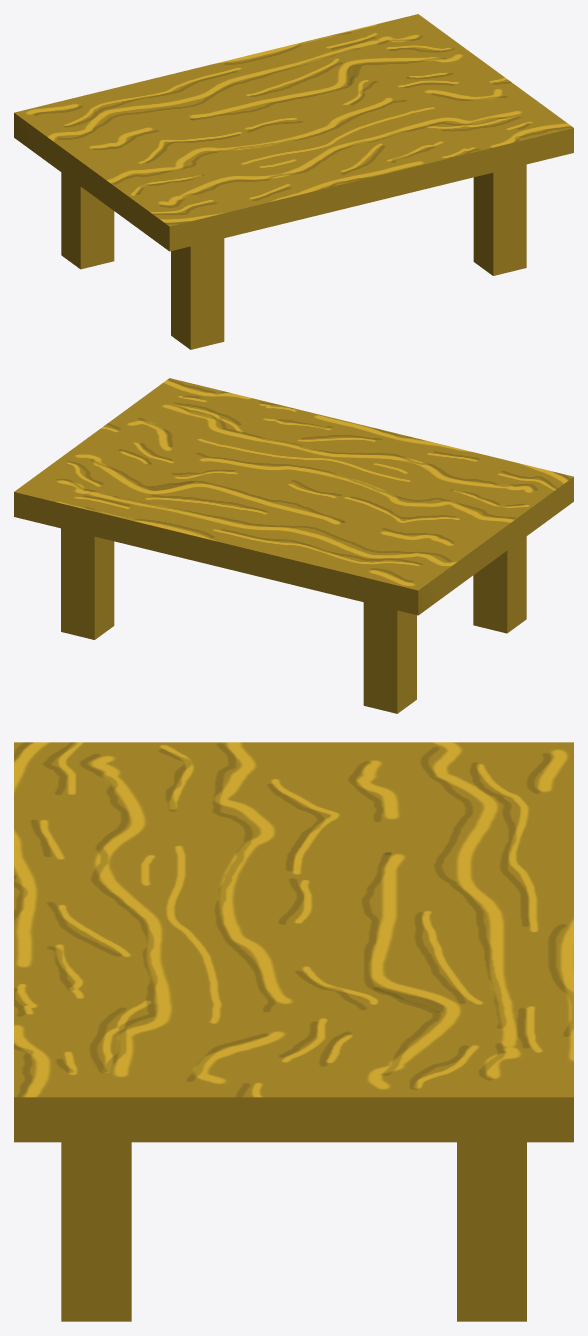
The model's file is CHUJ.fbx.
3 renders of one model, top to bottom at view 1: azimuth 30°, elevation 25°; view 2: azimuth 150°, elevation 25°; view 3: azimuth 270°, elevation 25°, orthographic. The views are drawn at different scales.
Visible parts, largest first — view 1: Cube; view 2: Cube; view 3: Cube.
Boxes of the visible parts, box(x1,y1,x2,y2) form: Cube: box(14, 14, 573, 349); Cube: box(14, 378, 573, 713); Cube: box(14, 742, 573, 1321).
Size of the model in its own units: 361 by 120 by 241.
Materials: 1 (1 with a texture image).
